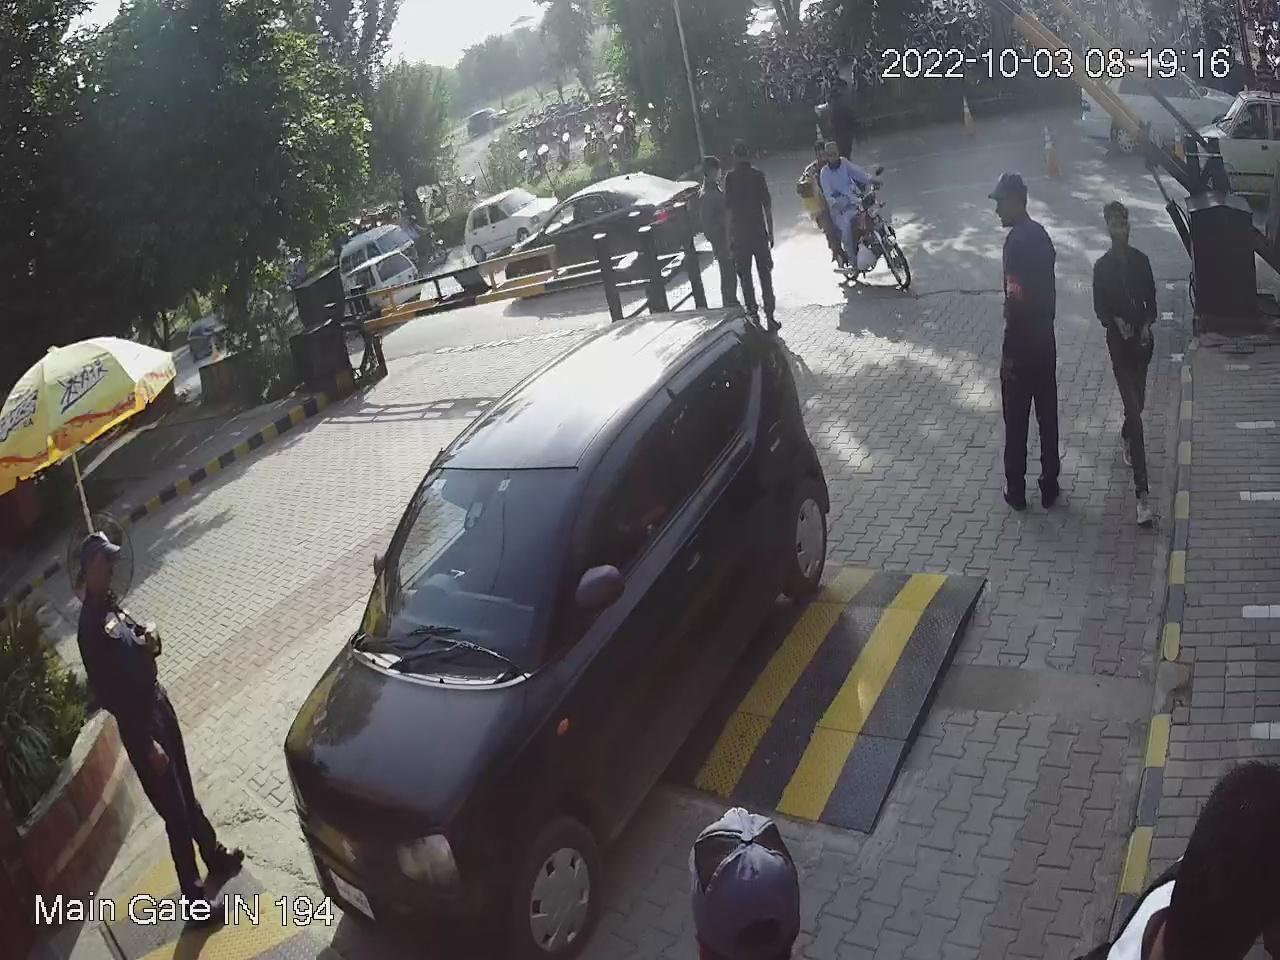windshield: (351, 463, 591, 678)
